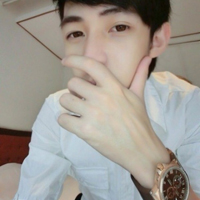face: (58, 1, 150, 113)
